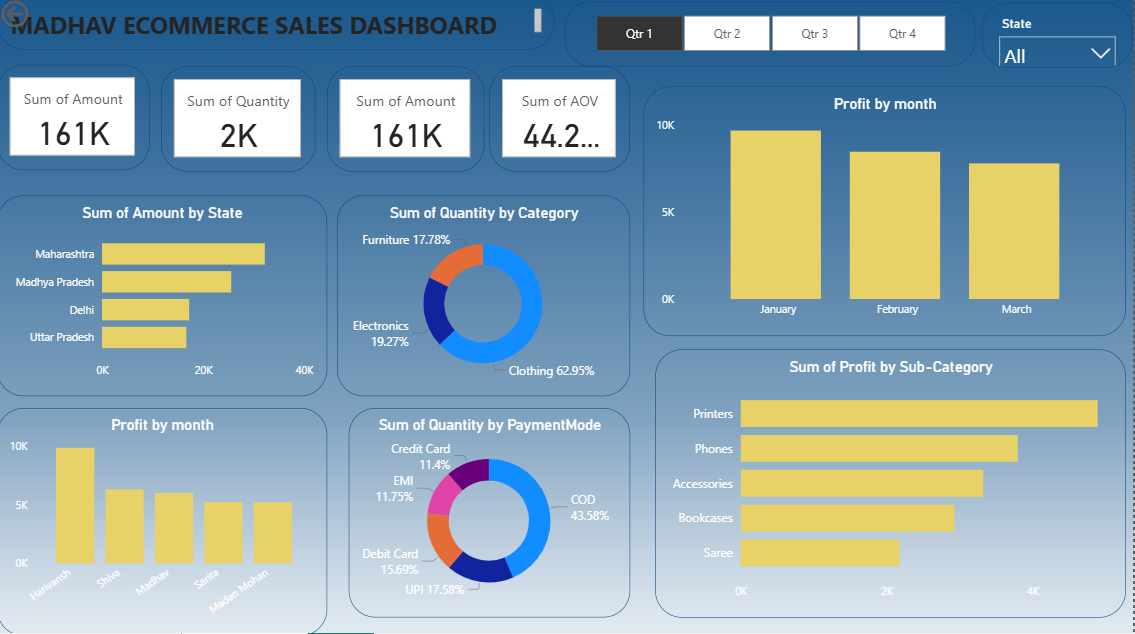

This screenshot's page, from the dashboard's own definition file:
{"tool":"powerbi","page":{"name":"Page 1","canvas":[1280,720],"ordinal":0},"visuals":[{"type":"columnChart","title":"Profit by month","fields":{"Category":["Orders.Order Date.Variation.Date Hierarchy.Month"],"Y":["Details.Profit"]},"box":[728.3,101.9,543.4,281.1],"z":0},{"type":"clusteredBarChart","fields":{"Category":["Details.Sub-Category"],"Y":["Details.Profit"]},"box":[741.5,398.1,530.2,301.9],"z":1000},{"type":"textbox","box":[0,0,628.3,60.4],"z":2000},{"type":"donutChart","fields":{"Y":["Details.Quantity"],"Category":["Details.PaymentMode"]},"box":[396.2,464.2,317,235.8],"z":3000},{"type":"donutChart","fields":{"Category":["Details.Category"],"Y":["Details.Quantity"]},"box":[383,224.5,330.2,226.4],"z":4000},{"type":"cardVisual","fields":{"Data":["Details.Amount"]},"box":[0,77.4,171.7,118.9],"z":5000},{"type":"actionButton","box":[0,0,100,40],"z":6000},{"type":"cardVisual","fields":{"Data":["Details.Quantity"]},"box":[184.9,79.2,173.6,118.9],"z":7000},{"type":"cardVisual","fields":{"Data":["Details.AOV"]},"box":[554.7,79.2,158.5,118.9],"z":8000},{"type":"cardVisual","fields":{"Data":["Details.Amount"]},"box":[371.7,79.2,177.4,118.9],"z":9000},{"type":"clusteredBarChart","fields":{"Category":["Orders.State"],"Y":["Details.Amount"]},"box":[0,224.5,371.7,226.4],"z":10000},{"type":"columnChart","title":"Profit by month","fields":{"Category":["Orders.CustomerName"],"Y":["Details.Amount"]},"box":[0,464.2,371.7,256.6],"z":11000},{"type":"slicer","fields":{"Values":["Orders.State"]},"box":[1109.4,7.5,169.8,73.6],"z":12000},{"type":"slicer","fields":{"Values":["Orders.Order Date.Variation.Date Hierarchy.Quarter"]},"box":[639.6,5.7,462.3,73.6],"z":13000}]}

Visuals, with their boxes in screenshot pixels (x1, y1, x2, y2), scaled from the page's 1280x720 canvas onto the 1135x634 screenshot:
"Profit by month" columnChart: x1=646, y1=90, x2=1128, y2=337
clusteredBarChart - Details.Sub-Category x Details.Profit: x1=658, y1=351, x2=1128, y2=616
textbox: x1=0, y1=0, x2=557, y2=53
donutChart - Details.Quantity x Details.PaymentMode: x1=351, y1=409, x2=632, y2=616
donutChart - Details.Category x Details.Quantity: x1=340, y1=198, x2=632, y2=397
cardVisual - Details.Amount: x1=0, y1=68, x2=152, y2=173
actionButton: x1=0, y1=0, x2=89, y2=35
cardVisual - Details.Quantity: x1=164, y1=70, x2=318, y2=174
cardVisual - Details.AOV: x1=492, y1=70, x2=632, y2=174
cardVisual - Details.Amount: x1=330, y1=70, x2=487, y2=174
clusteredBarChart - Orders.State x Details.Amount: x1=0, y1=198, x2=330, y2=397
"Profit by month" columnChart: x1=0, y1=409, x2=330, y2=633
slicer - Orders.State: x1=984, y1=7, x2=1134, y2=71
slicer - Orders.Order Date.Variation.Date Hierarchy.Quarter: x1=567, y1=5, x2=977, y2=70
